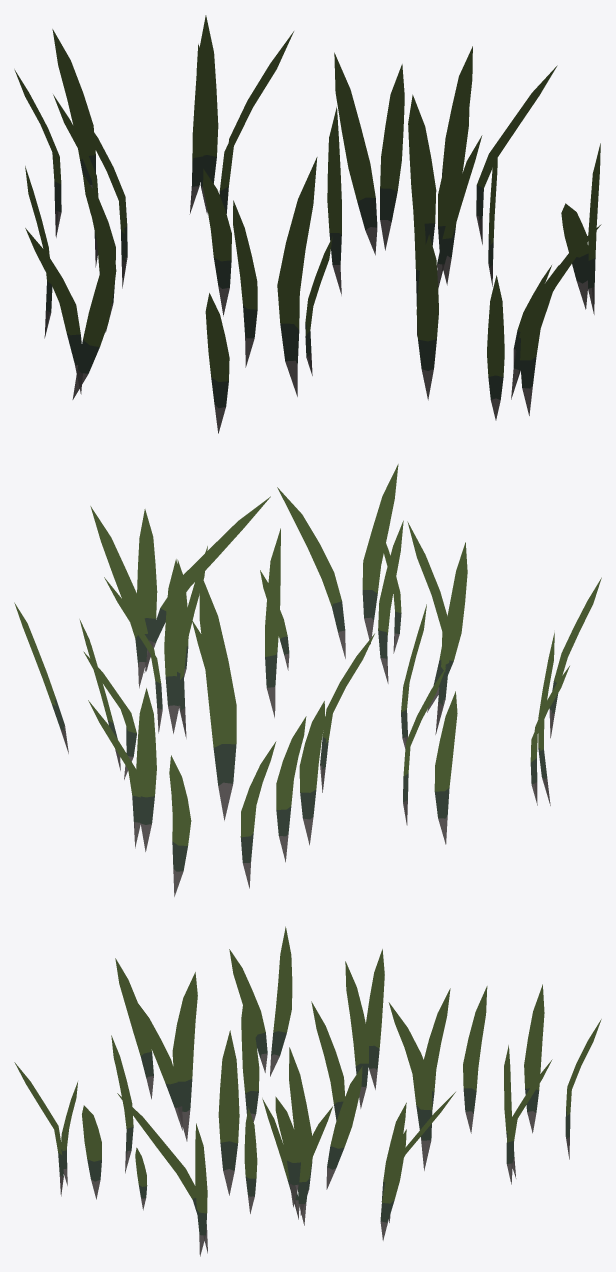
The model's file is GrassC.fbx.
The picture shows the model from 3 angles, top to bottom: view 1: azimuth 30°, elevation 25°; view 2: azimuth 150°, elevation 25°; view 3: azimuth 270°, elevation 25°; orthographic projection. The views are drawn at different scales.
Visible parts, largest first — view 1: polySurface63; view 2: polySurface63; view 3: polySurface63.
Part boxes in pixels (<box>): polySurface63: <box>14,15,601,433</box>; polySurface63: <box>14,464,601,896</box>; polySurface63: <box>14,926,601,1256</box>.
Bounding box in the file's own units: 1.58 × 0.7058 × 1.95.
